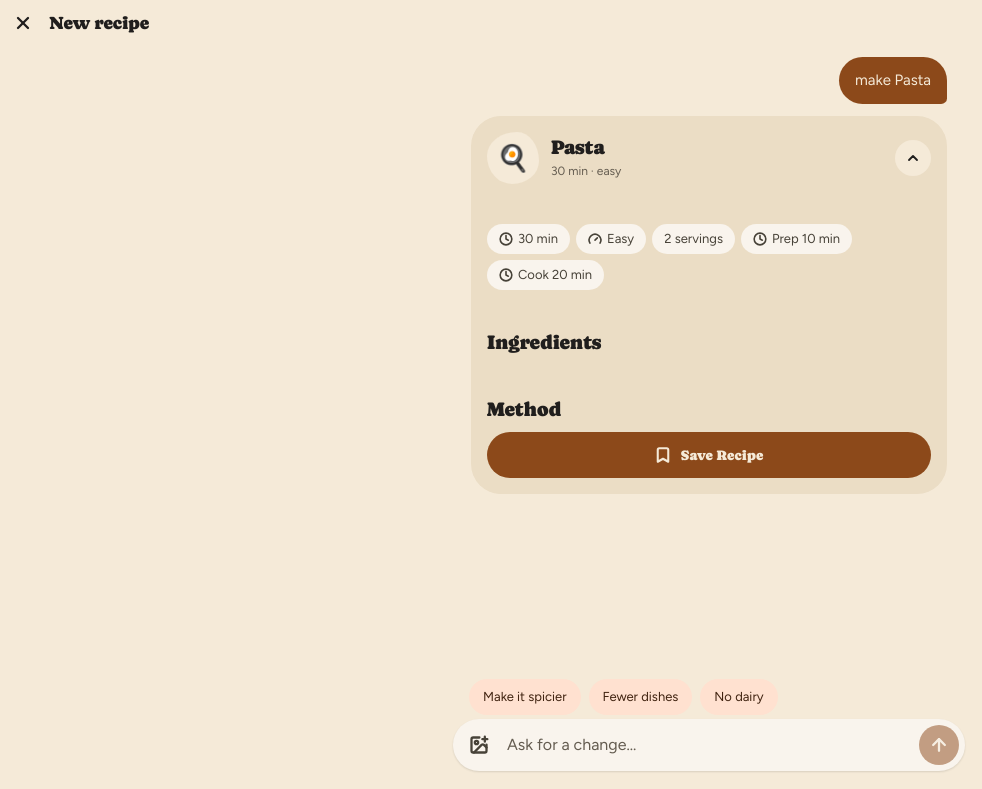
Test: RecipeChatPage cards › a collapsed newest card pins a compact Save in the composer that saves once
Expected: the number of buttons "Save Recipe" is 1, [487,432,931,478]
Click the button named "Hide full recipe": (913, 158) [895,140,931,176]
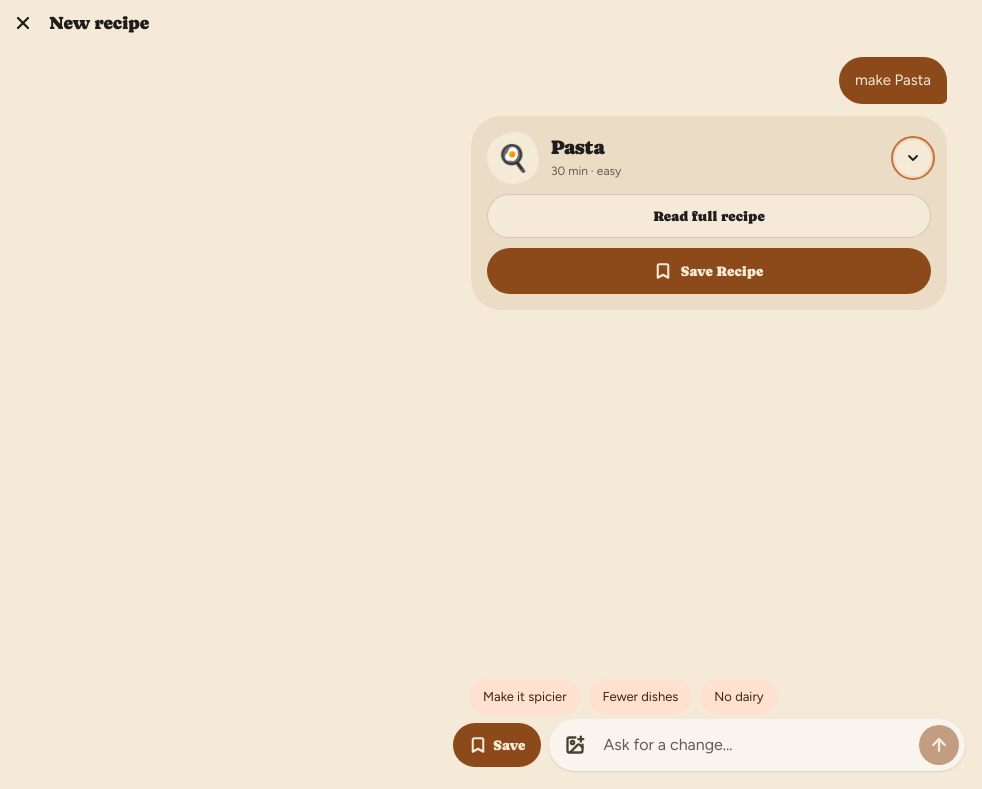
Expected: the number of buttons "Save Recipe" is 2
Click the button with aria-label "Save Recipe": (497, 745) [453,723,541,767]
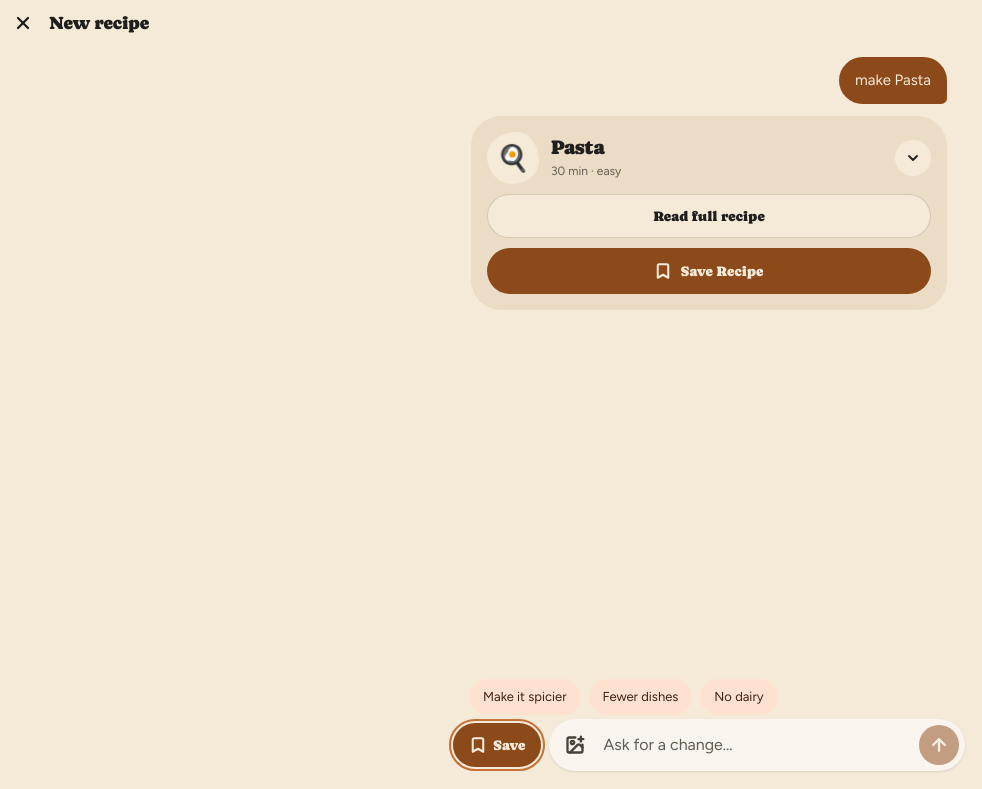
Expected: the text "make Pasta" is shown, [839,57,947,104]
Click the button named "Show full recipe": (913, 158) [895,140,931,176]
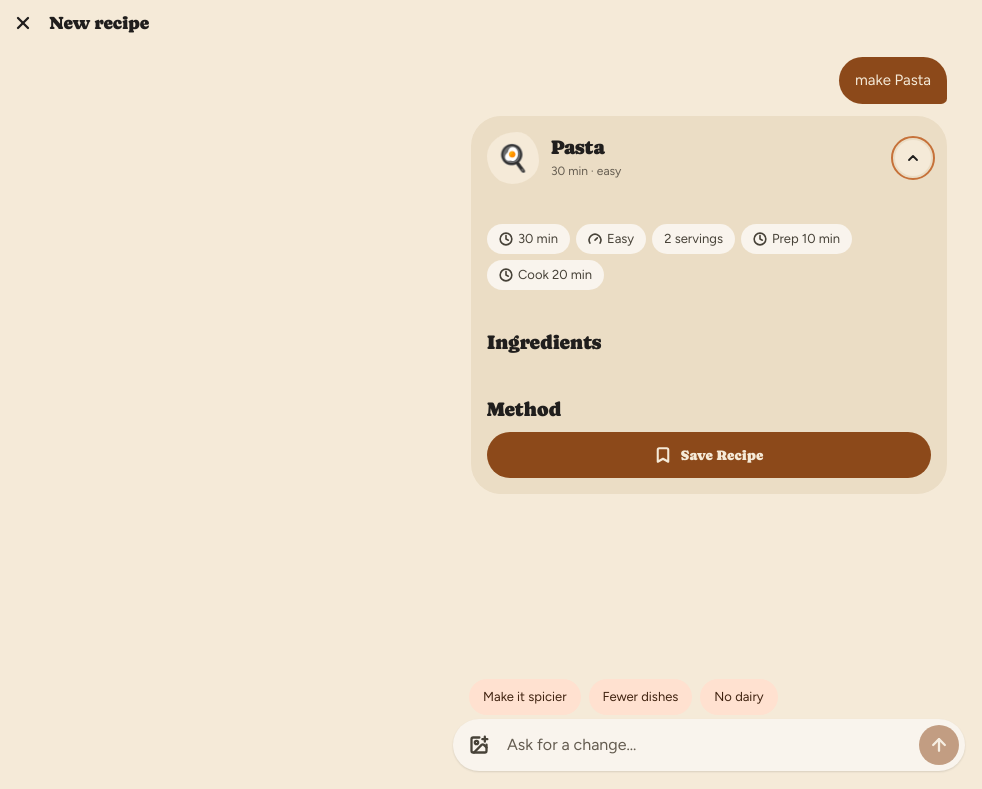
Expected: the number of buttons "Save Recipe" is 1, [487,432,931,478]
